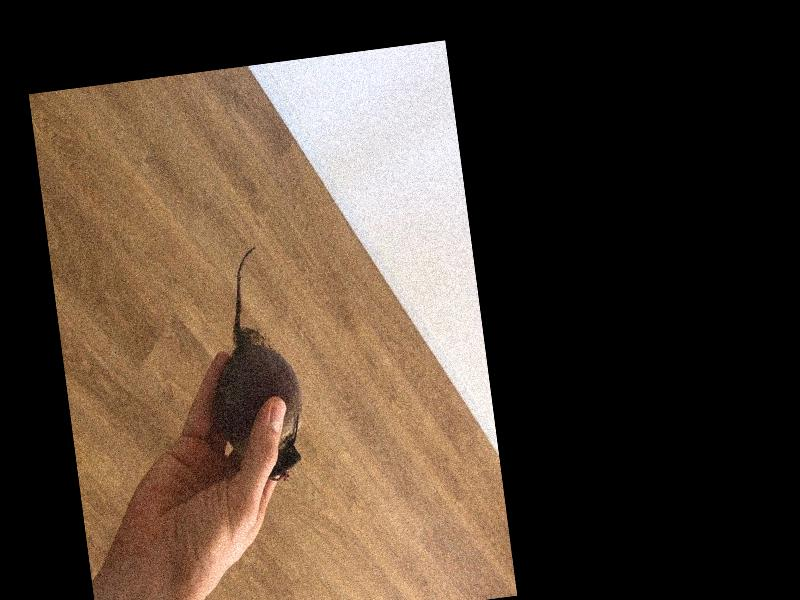Beet: (197, 243, 310, 487)
